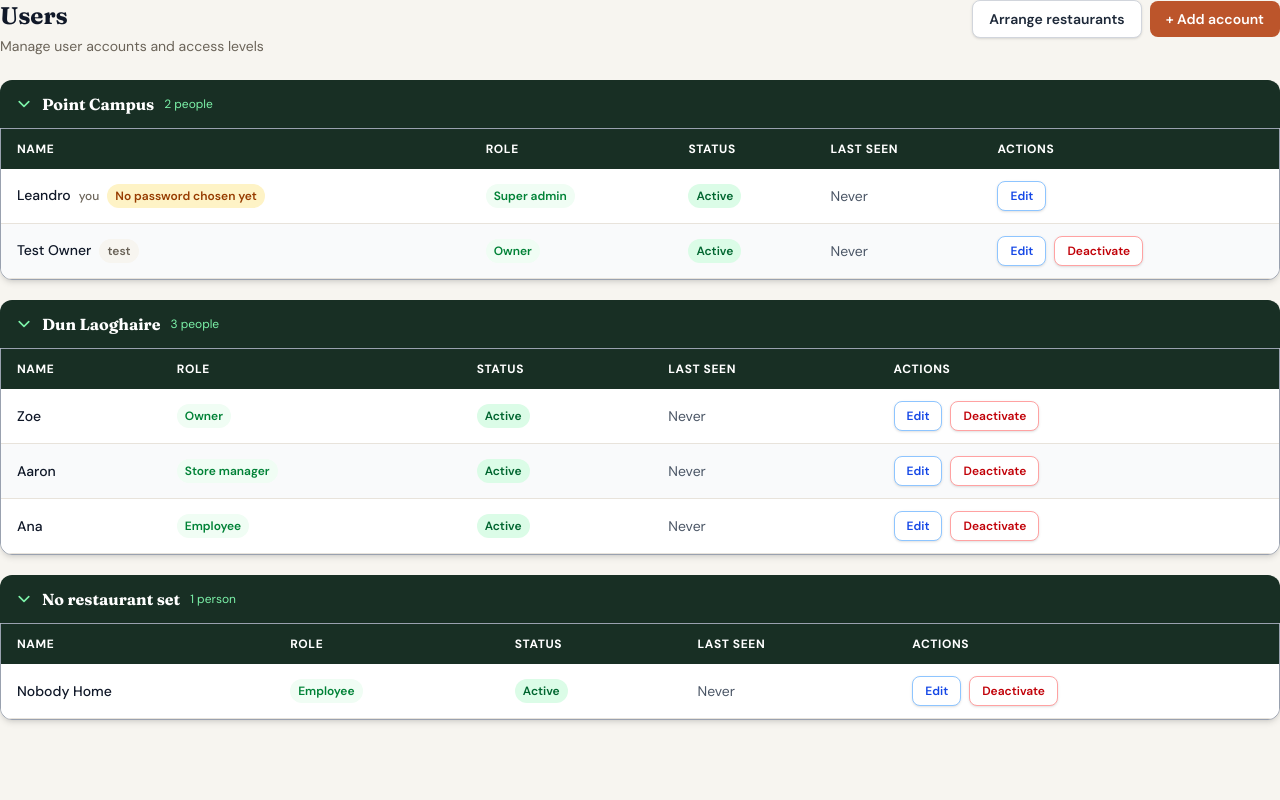
Scenario: adding an account › sends an invite through the function and says so
Click the button "+ Add account" at x=1215, y=19, box [1150,1,1279,37]
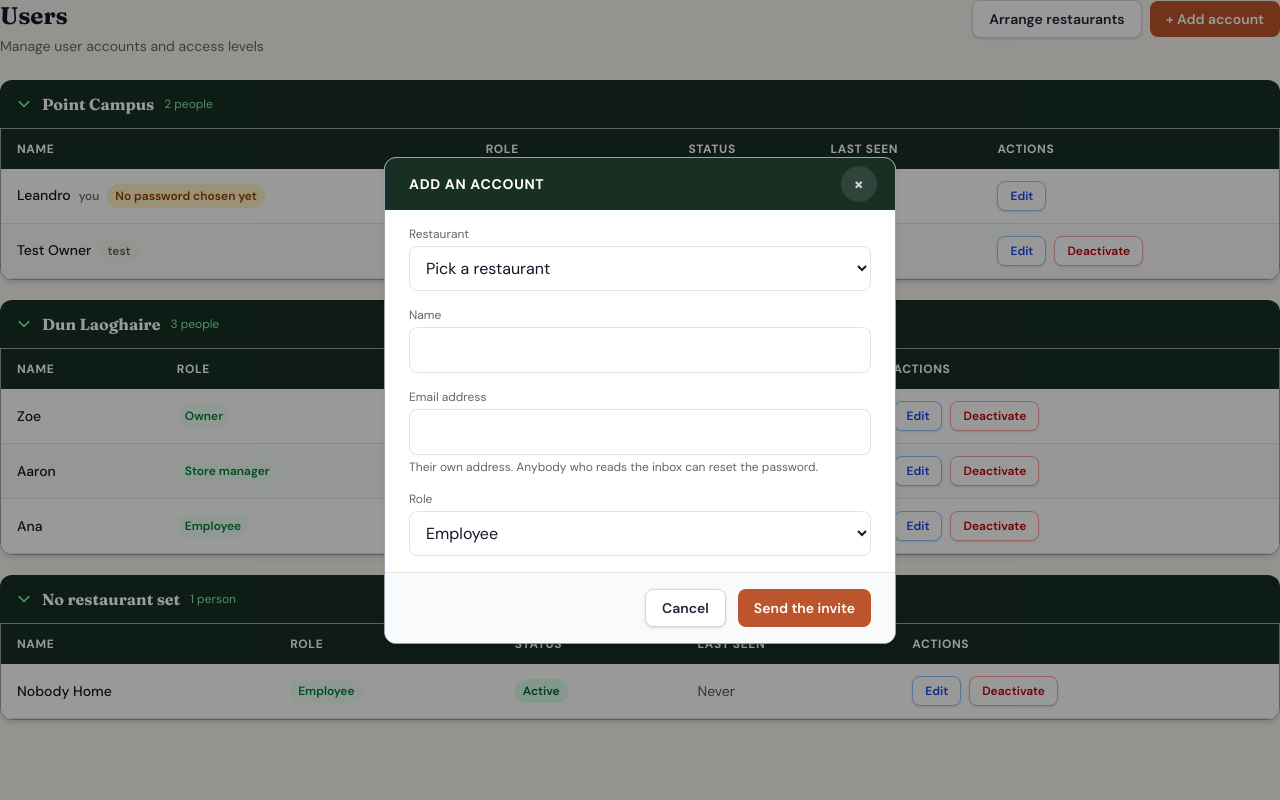
Select "Point Campus" in the dropdown labelled "Restaurant" at x=640, y=268, box [409,246,871,290]
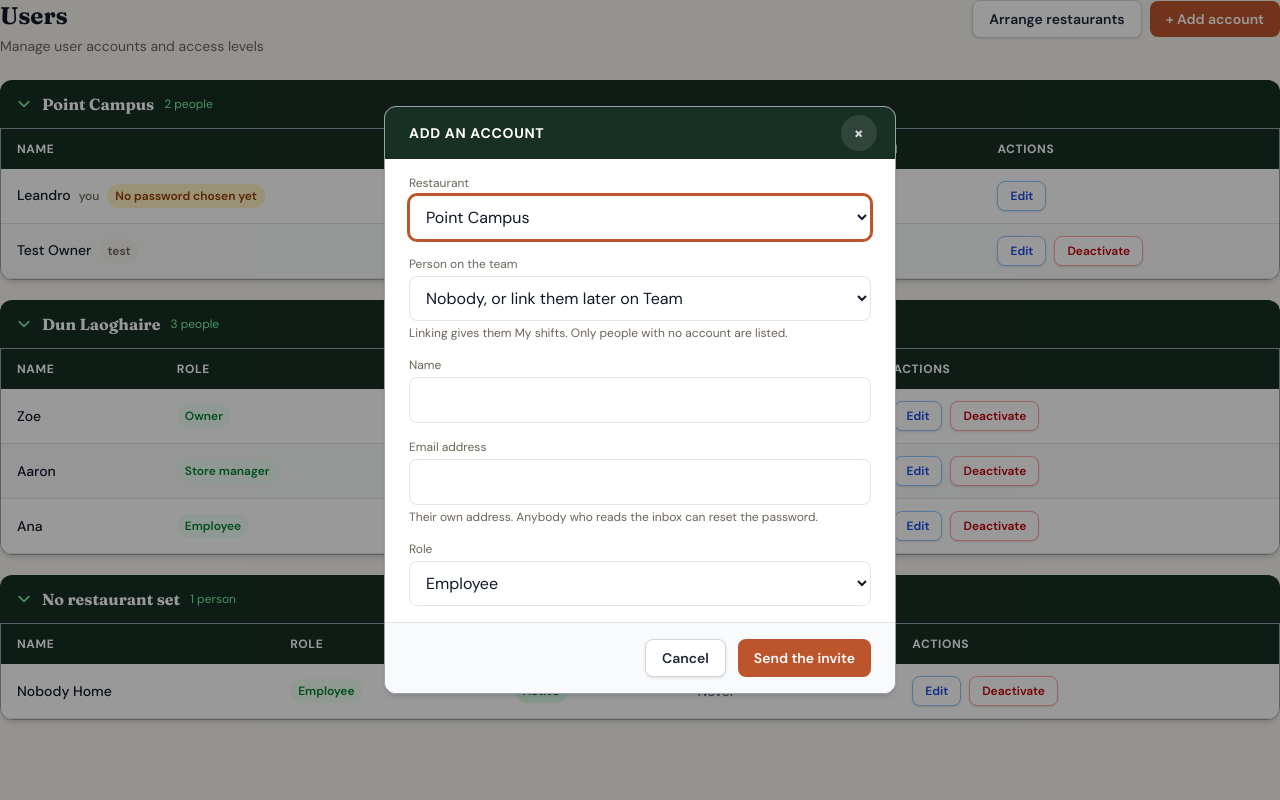
Select "Maria Silva" in the dropdown labelled "Person on the team" at x=640, y=298, box [409,276,871,321]
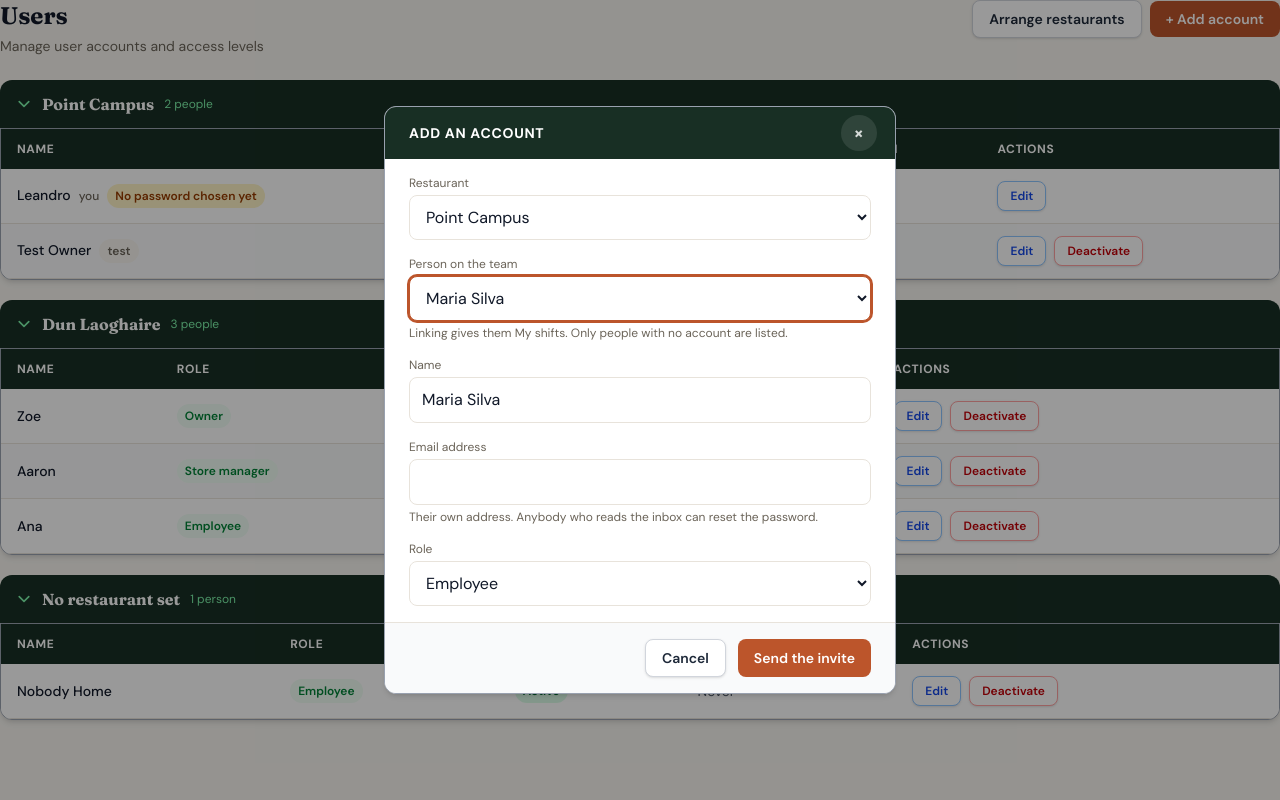
Expected: the field labelled "Name" holds "Maria Silva", [409,377,871,423]
Type "maria@papichulo.ie" into the field labelled "Email address" at x=640, y=482, box [409,459,871,505]
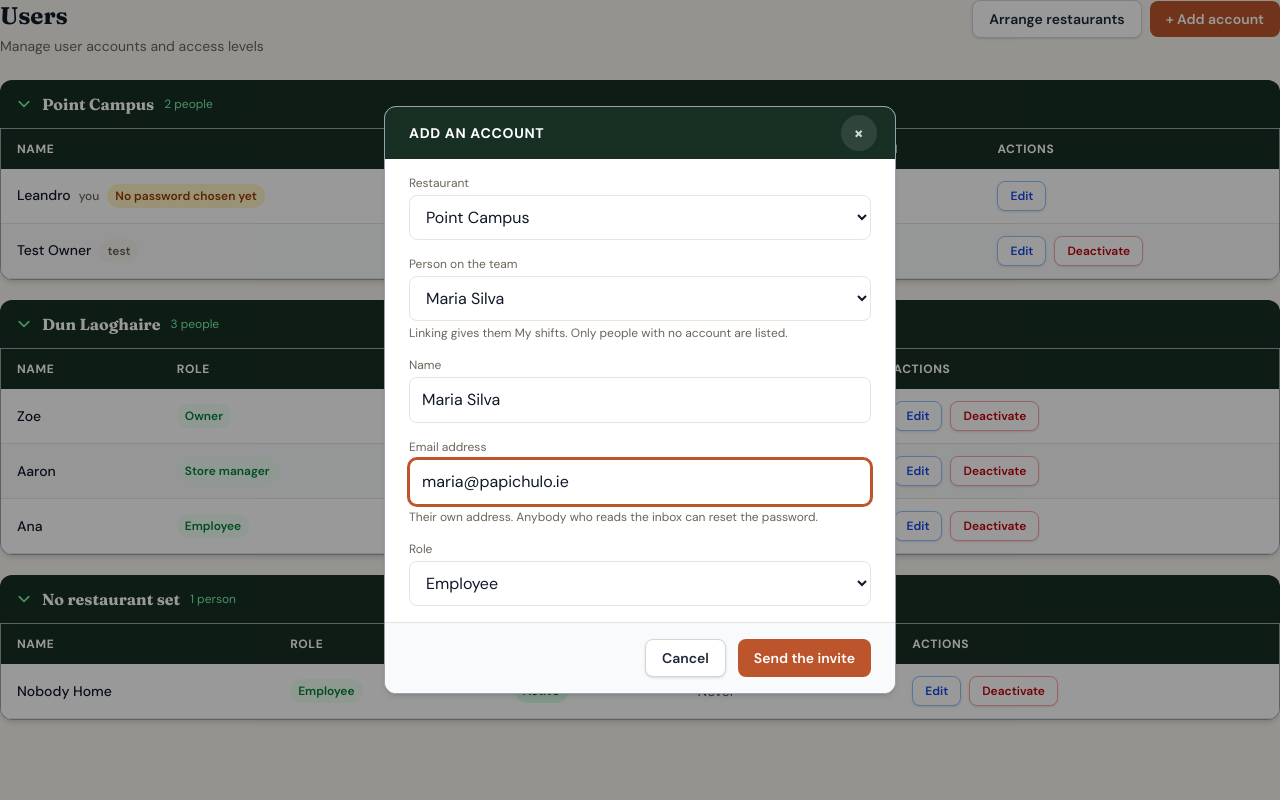
Click the button "Send the invite" at x=804, y=658, box [738,639,871,677]
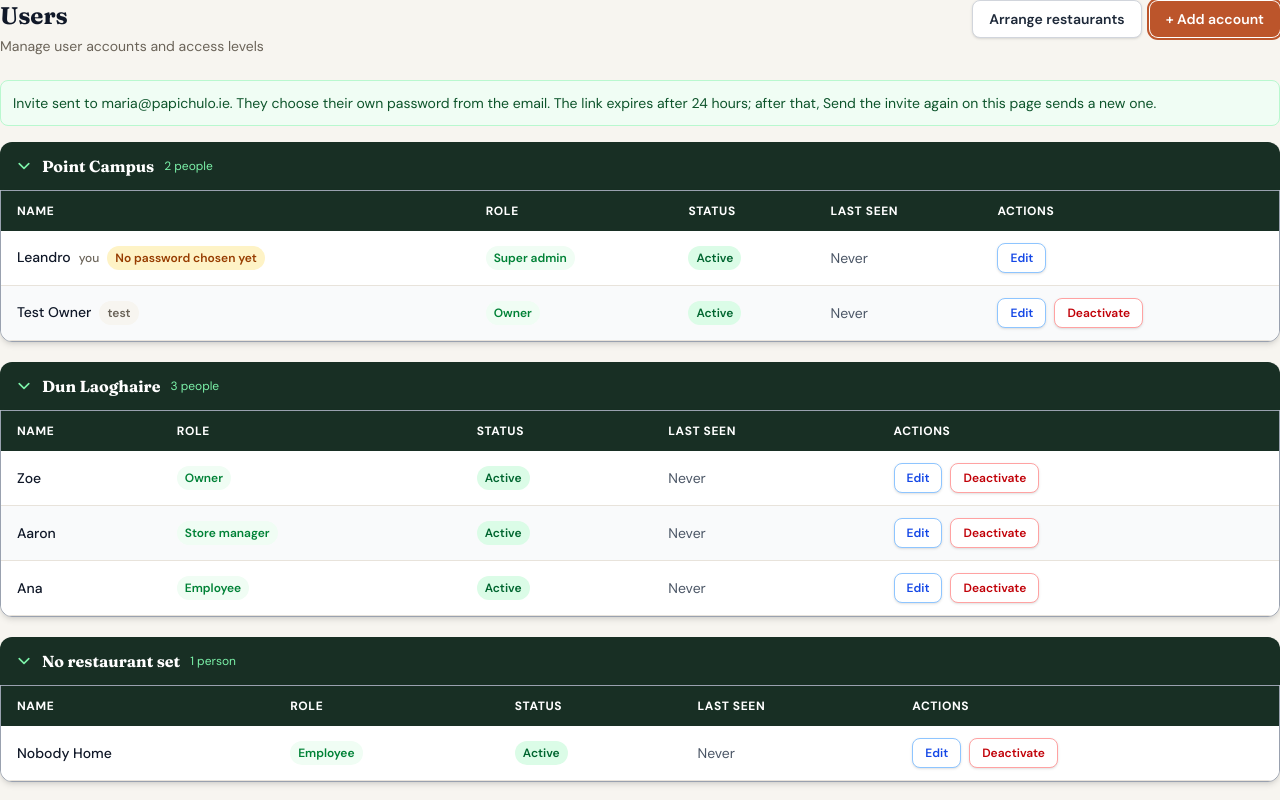
Expected: the text "Invite sent to maria@papichulo.ie" is shown, [13,94,1156,112]
